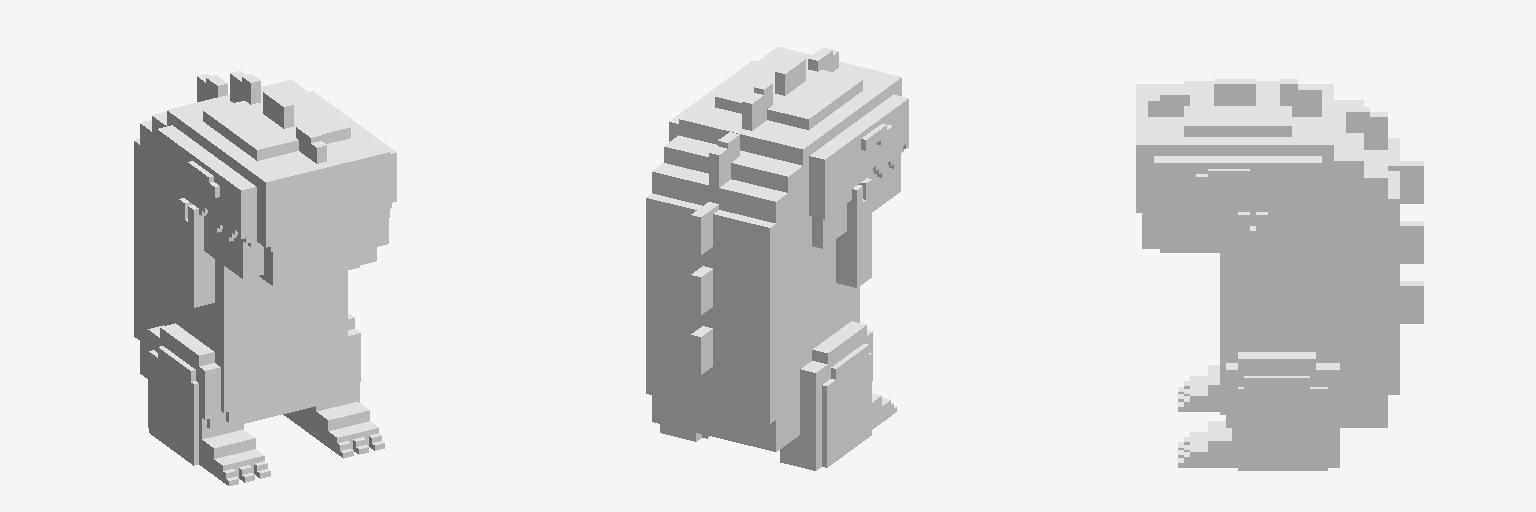
File: Kaiju-Hold.obj
The picture shows the model from 3 angles: view 1: azimuth 30°, elevation 25°; view 2: azimuth 150°, elevation 25°; view 3: azimuth 270°, elevation 25°; orthographic projection.
Bounding box in the file's own units: 32 × 64 × 48.